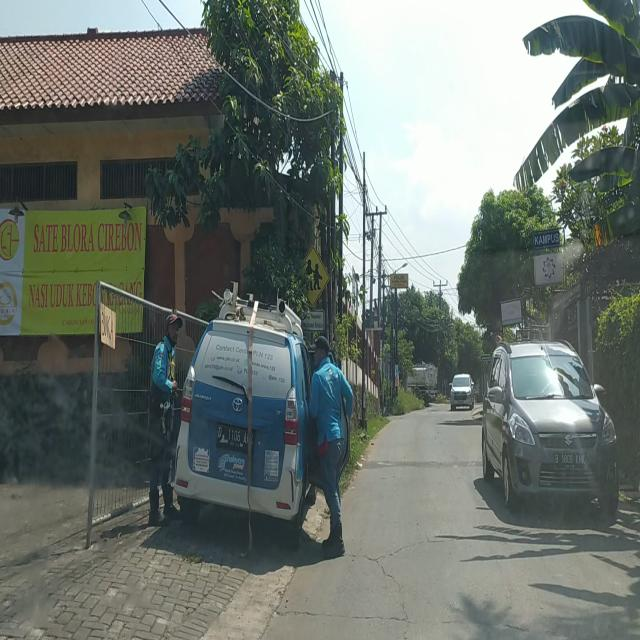Sewer Cover: (334, 541, 448, 592), (276, 606, 418, 624)
